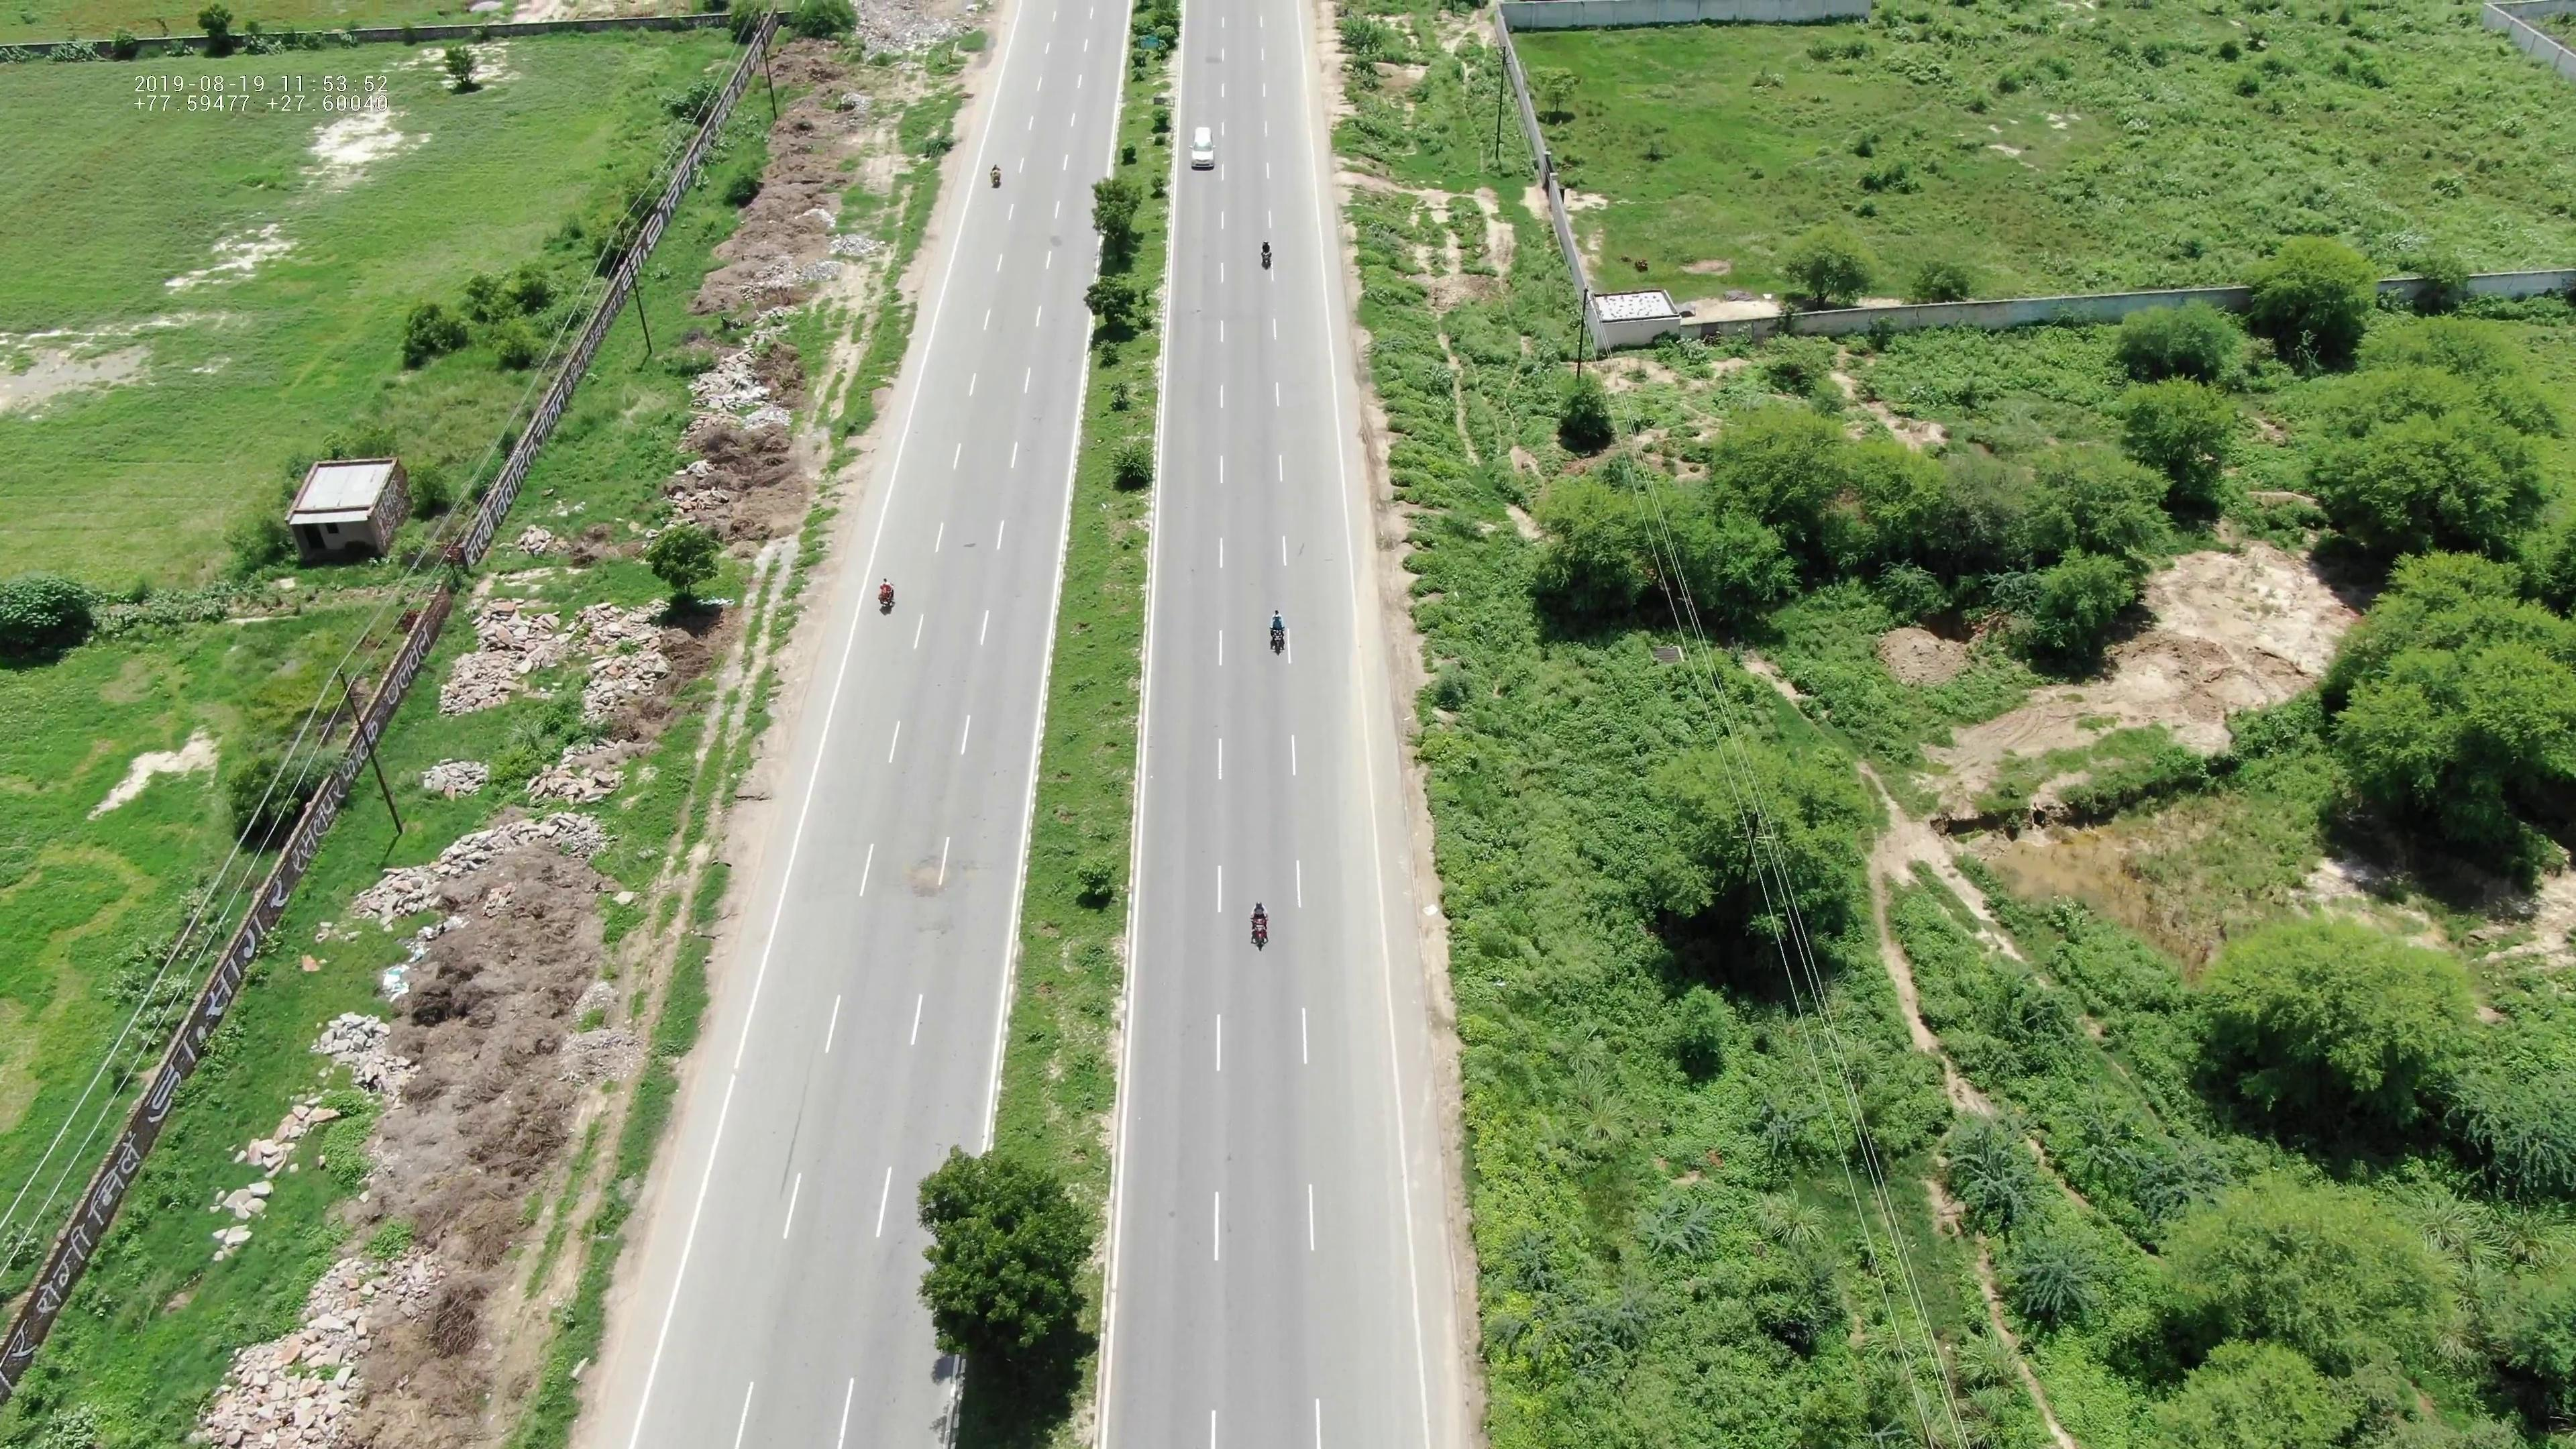Potholes: (881, 844, 968, 915)
